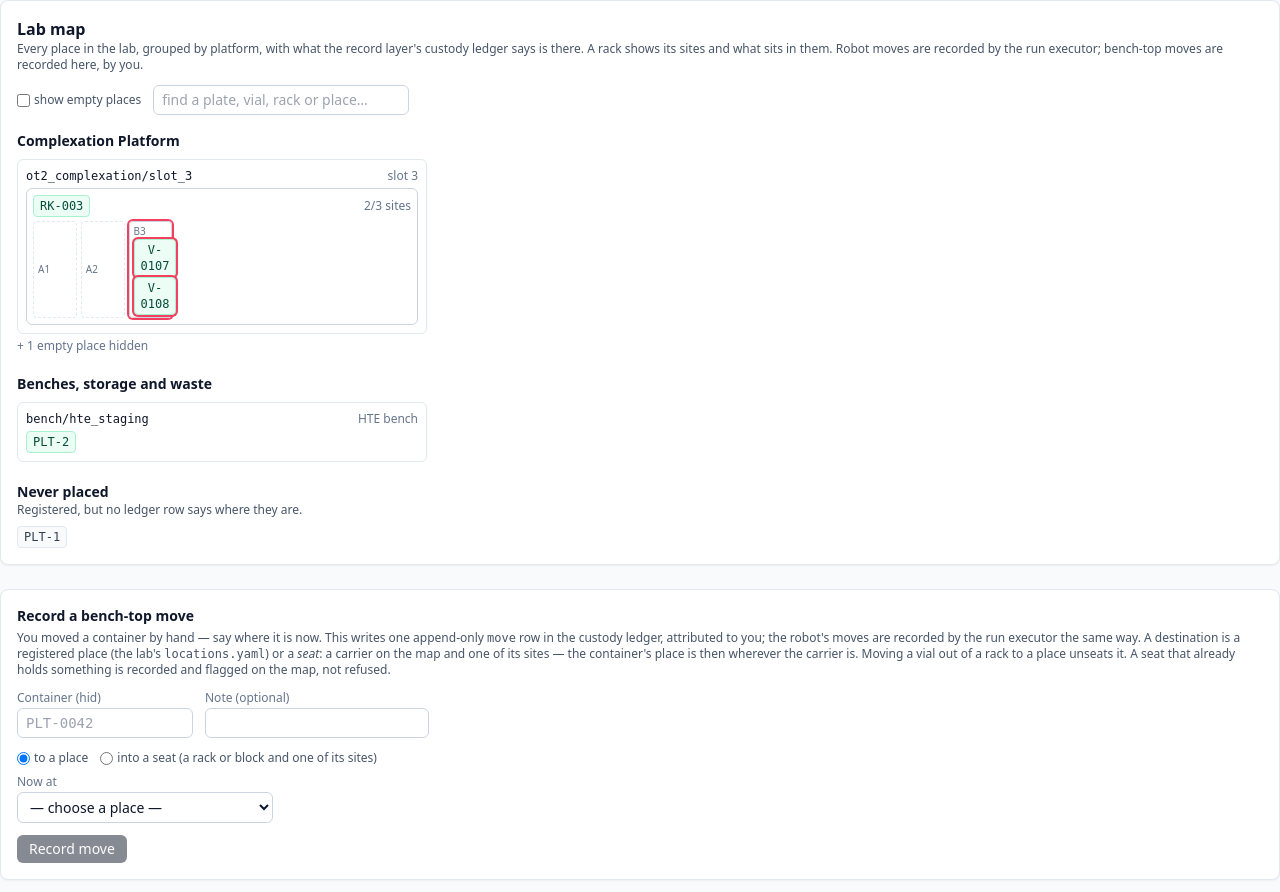
Test: PlatesPanel (lab map) › labels a carrier's move in a vial's history and shows where it is seated
The image size is (1280, 892).
Expected: the element with test id "adapter-RK-003" is shown, x1=26 y1=188 x2=418 y2=325
Click the button named "V-0107 (seat conflict)".
click(155, 258)  # box x1=134 y1=239 x2=176 y2=277
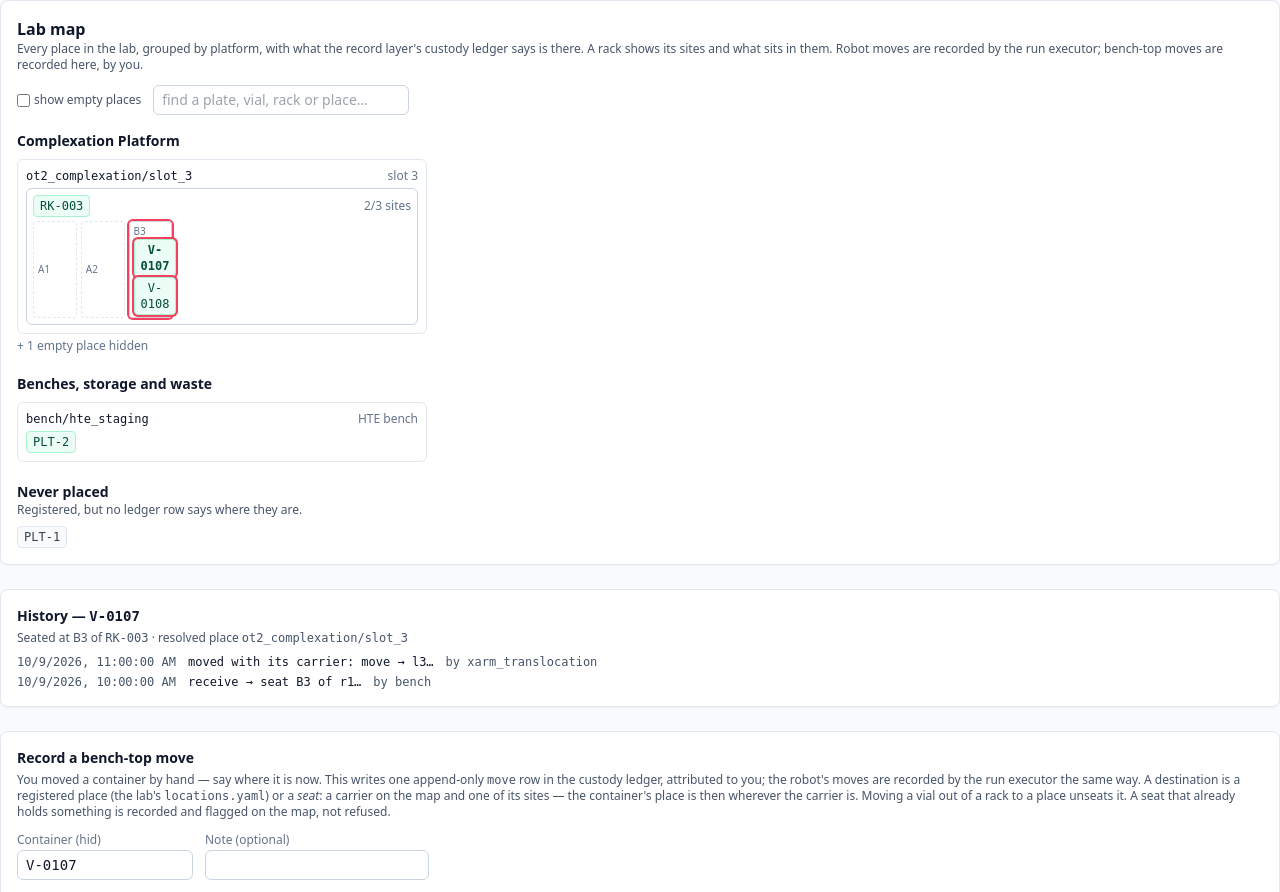
Result: the text "moved with its carrier: move → l3…" is shown at x1=188 y1=654 x2=434 y2=670
Result: the text "receive → seat B3 of r1…" is shown at x1=188 y1=674 x2=361 y2=690
Result: the text "Seated at B3 of" is shown at x1=17 y1=629 x2=408 y2=646
